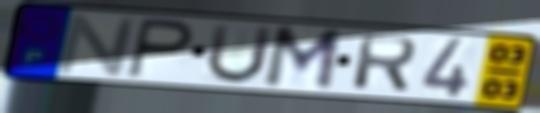4: (419, 37, 473, 100)
M: (259, 25, 346, 94)
N: (54, 12, 142, 77)
P: (123, 15, 198, 81)
R: (349, 33, 421, 95)
U: (203, 22, 278, 87)
